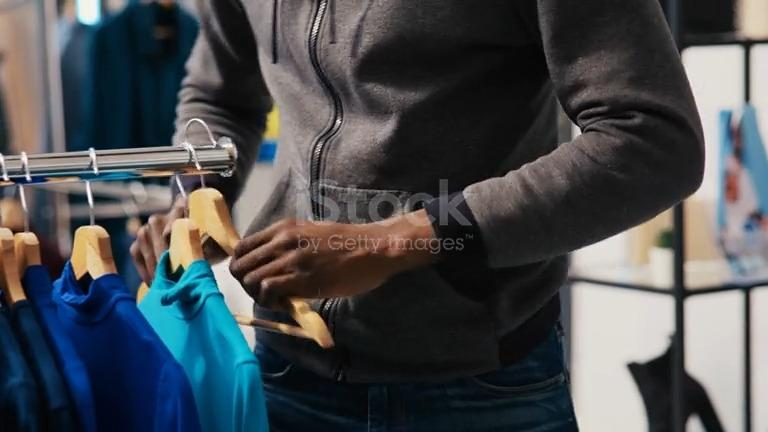Shoplifting: (119, 0, 707, 432)
